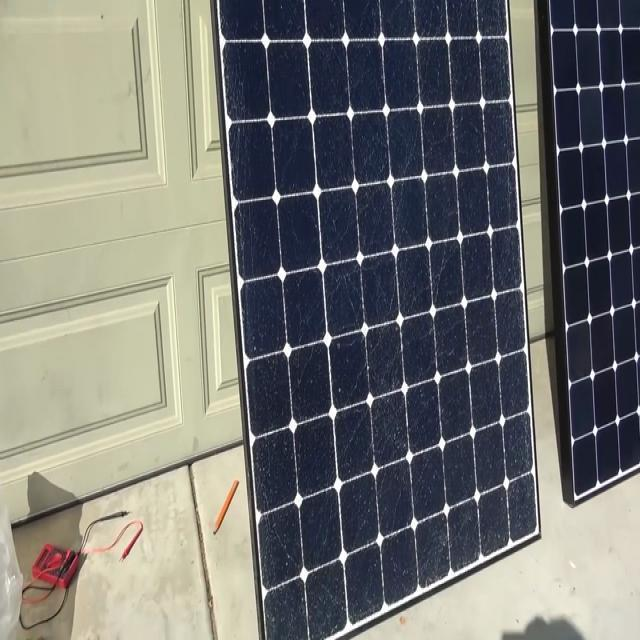Normal Solar Panel: (540, 1, 640, 505)
